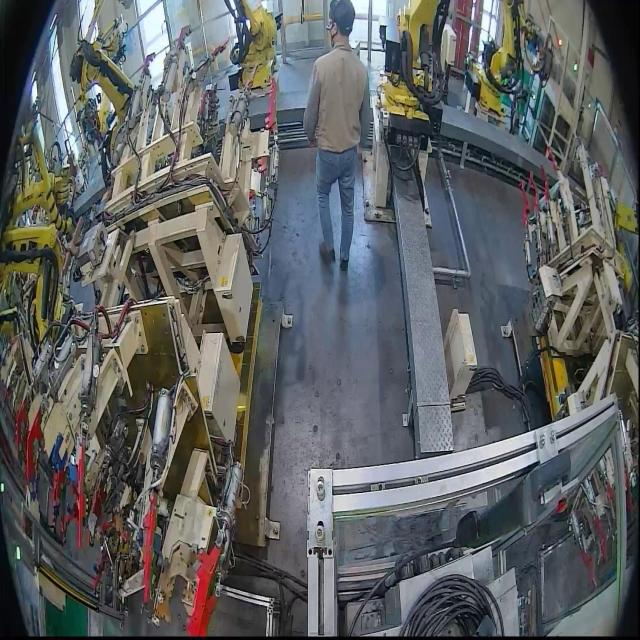Person: (302, 0, 372, 271)
